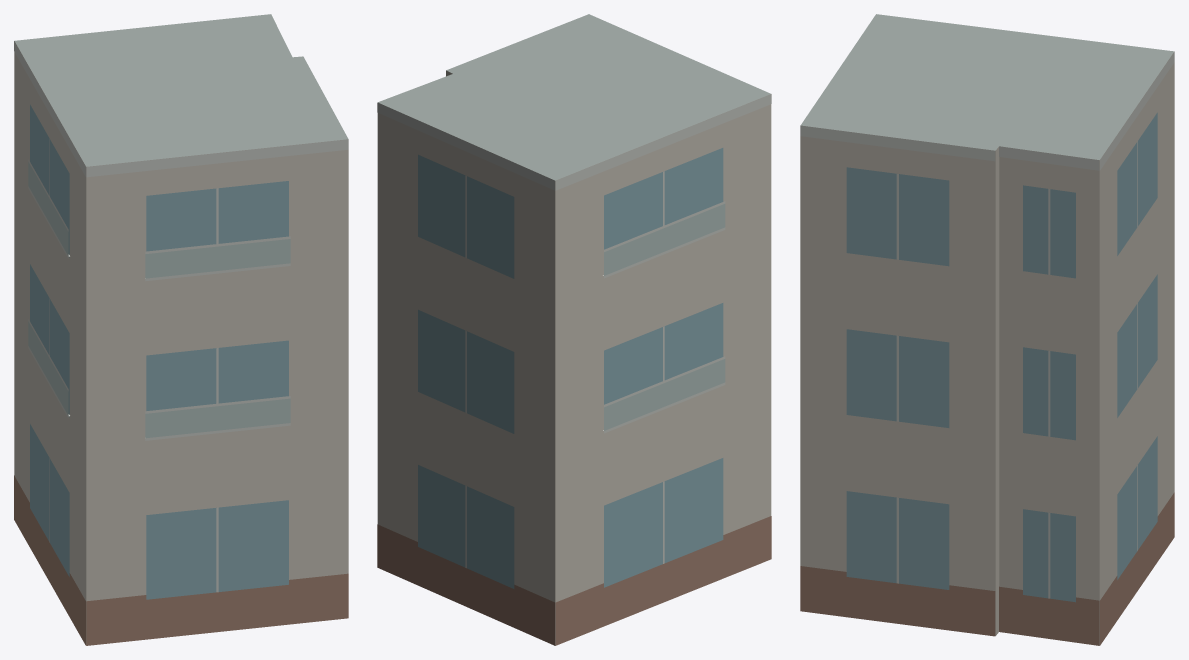
File: survey-upis-32935615.glb
3 views of the same model, side by side, from view 1: azimuth 30°, elevation 25°; view 2: azimuth 150°, elevation 25°; view 3: azimuth 270°, elevation 25° (orthographic). The views are drawn at different scales.
Visible parts, largest first — view 1: survey-upis-32935615.tmp; view 2: survey-upis-32935615.tmp; view 3: survey-upis-32935615.tmp.
Part boxes in pixels (x1,y1,x2,y2): survey-upis-32935615.tmp: (14, 14, 348, 645); survey-upis-32935615.tmp: (377, 14, 771, 645); survey-upis-32935615.tmp: (800, 14, 1174, 645).
Size of the model in its own units: 7.17 by 11.1 by 7.76.
